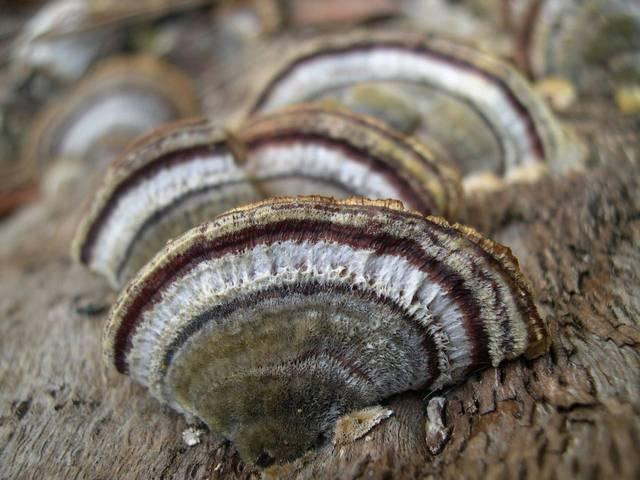poisonous_mushroom: (100, 193, 552, 476), (70, 102, 467, 294)
